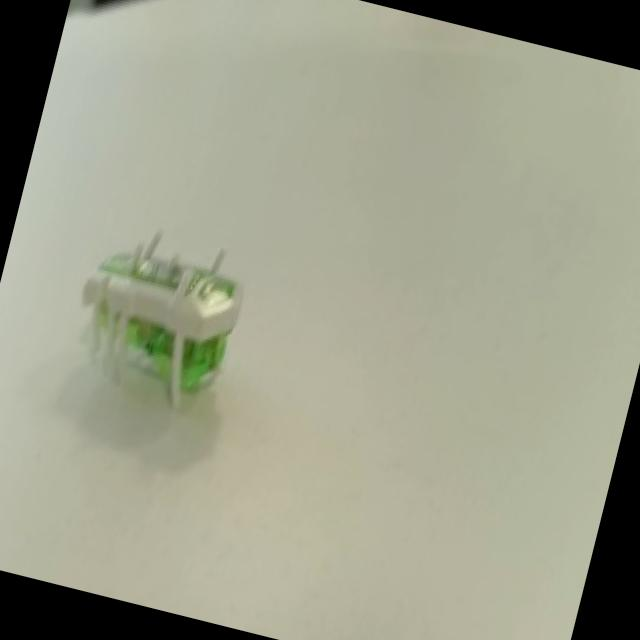4_NanoBug_Blanco: (36, 209, 290, 427)
